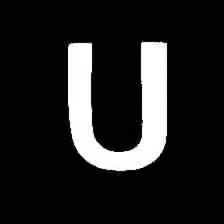LTR_U: (59, 30, 178, 175)
